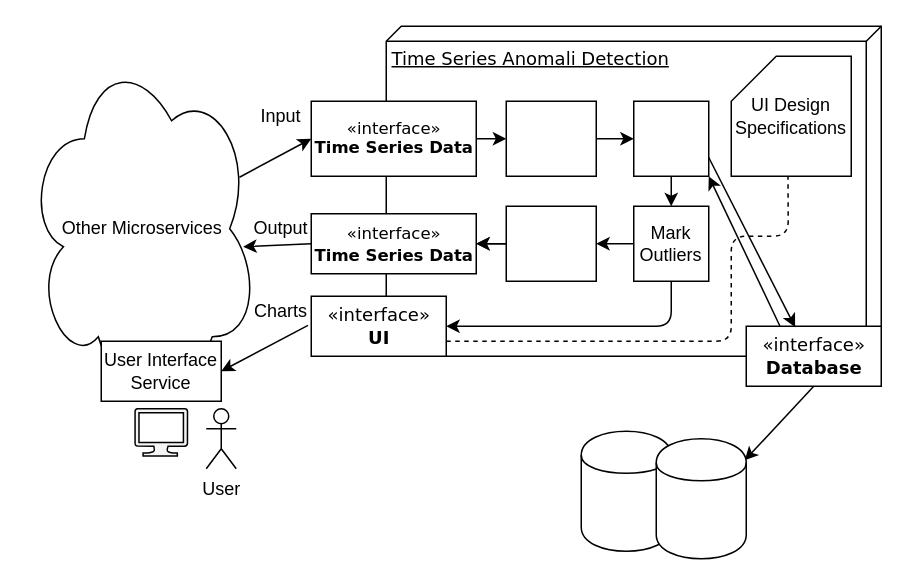
The diagram is 908 pixels wide and 585 high, and some of its shapes have lost their labels. The centre of each missing label's shape, as x and y in pixels:
"Converter" goes at point 550,243.
"DB1" goes at point 625,490.
"DB2" goes at point 700,498.
"Parser" goes at point 550,138.
"RVAE" goes at point 670,138.
